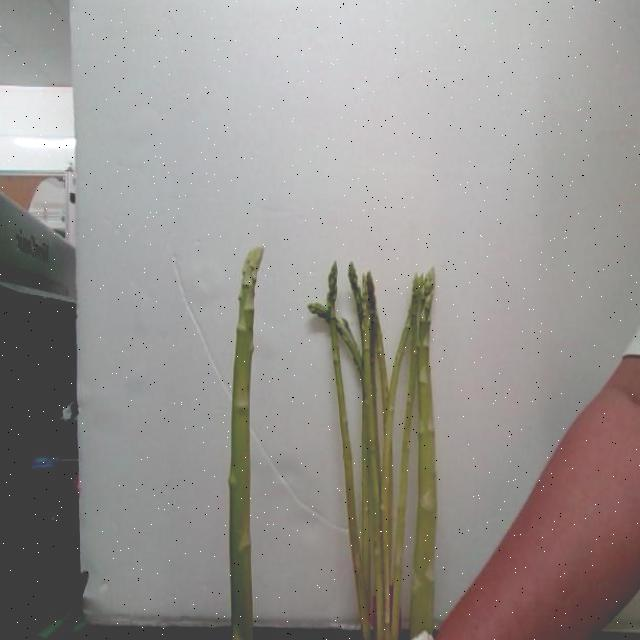aspargus: (232, 248, 266, 640)
